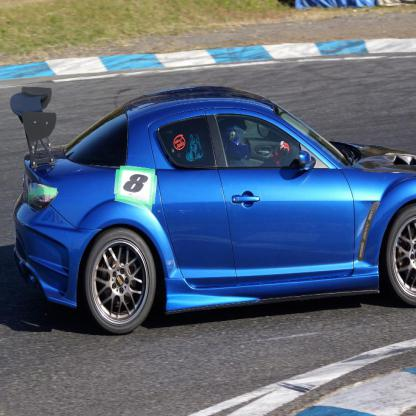Car: (10, 86, 415, 334)
